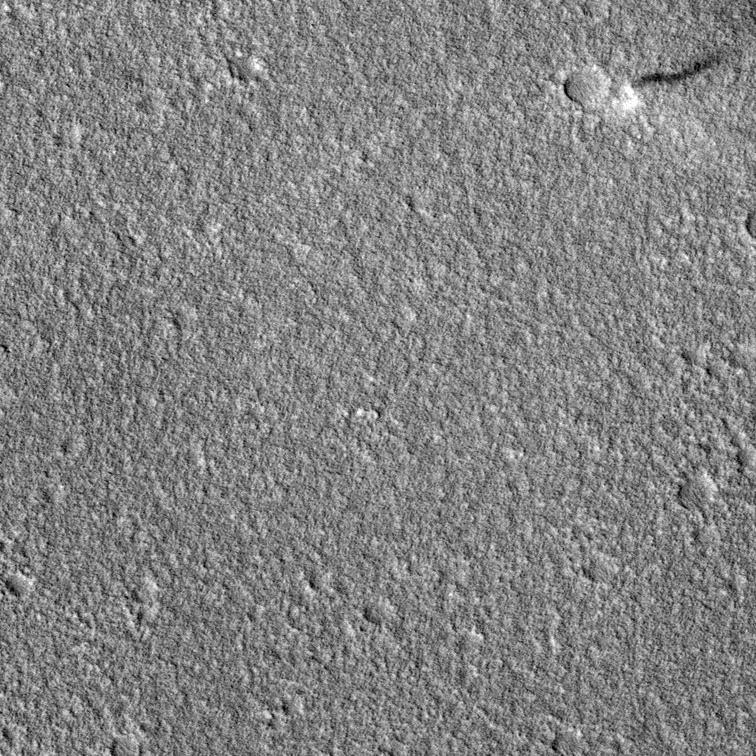dust_devil: (613, 45, 735, 114)
